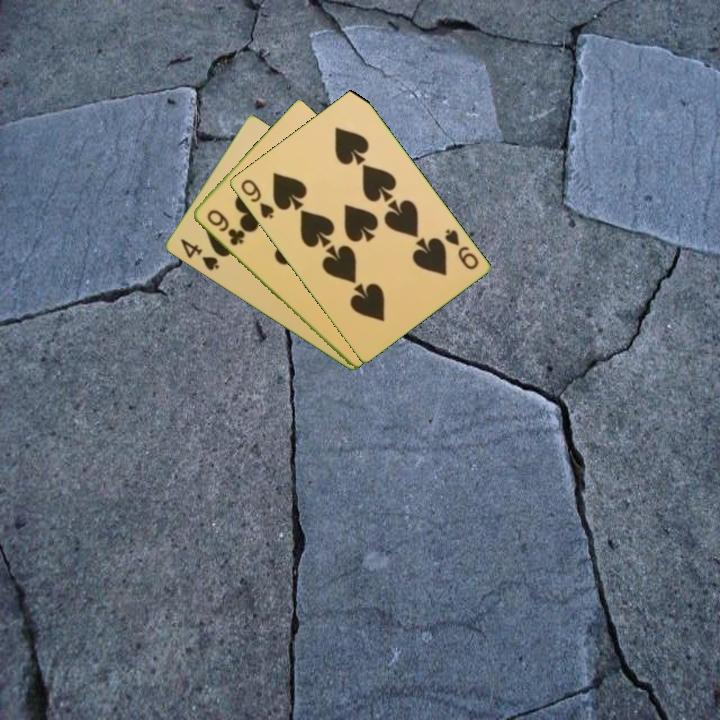4s: (177, 235, 222, 274)
9c: (203, 206, 247, 249)
9s: (441, 225, 481, 273), (237, 175, 277, 221)
